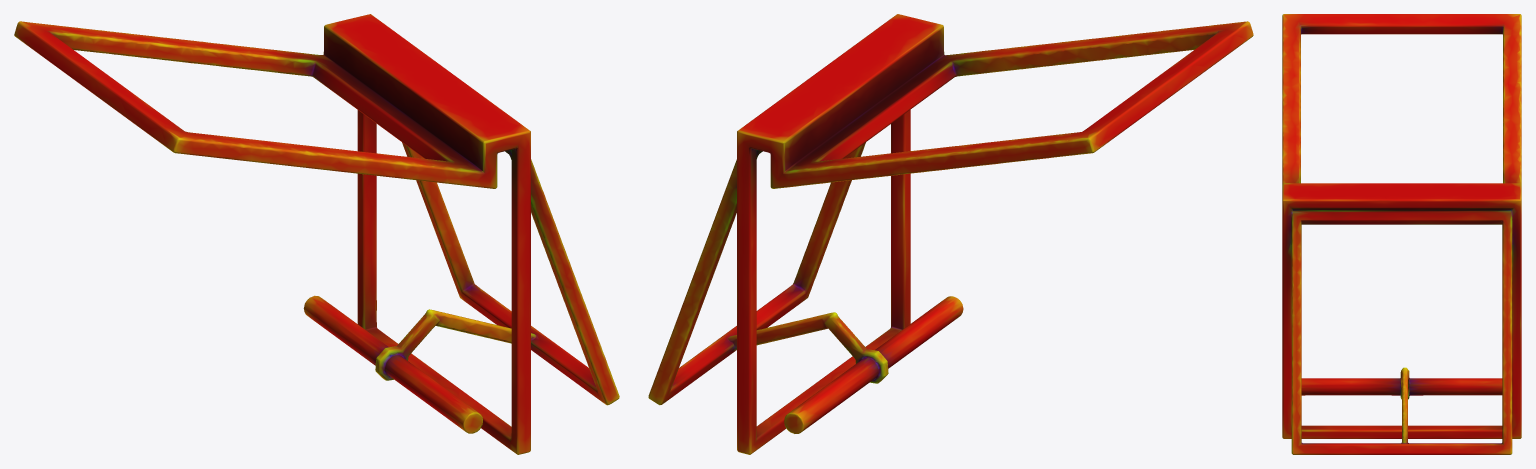
File: Vault_Channel_Windows.fbx
The picture shows the model from 3 angles, left to right: view 1: azimuth 30°, elevation 25°; view 2: azimuth 150°, elevation 25°; view 3: azimuth 270°, elevation 25°; orthographic projection. The views are drawn at different scales.
Parts seen in each view (by area): view 1: transform1; view 2: transform1; view 3: transform1.
Part boxes in pixels (x1,y1,x2,y2): transform1: [14, 14, 619, 454]; transform1: [648, 14, 1253, 454]; transform1: [1282, 14, 1521, 454].
Size of the model in its own units: 326 by 201 by 275.
